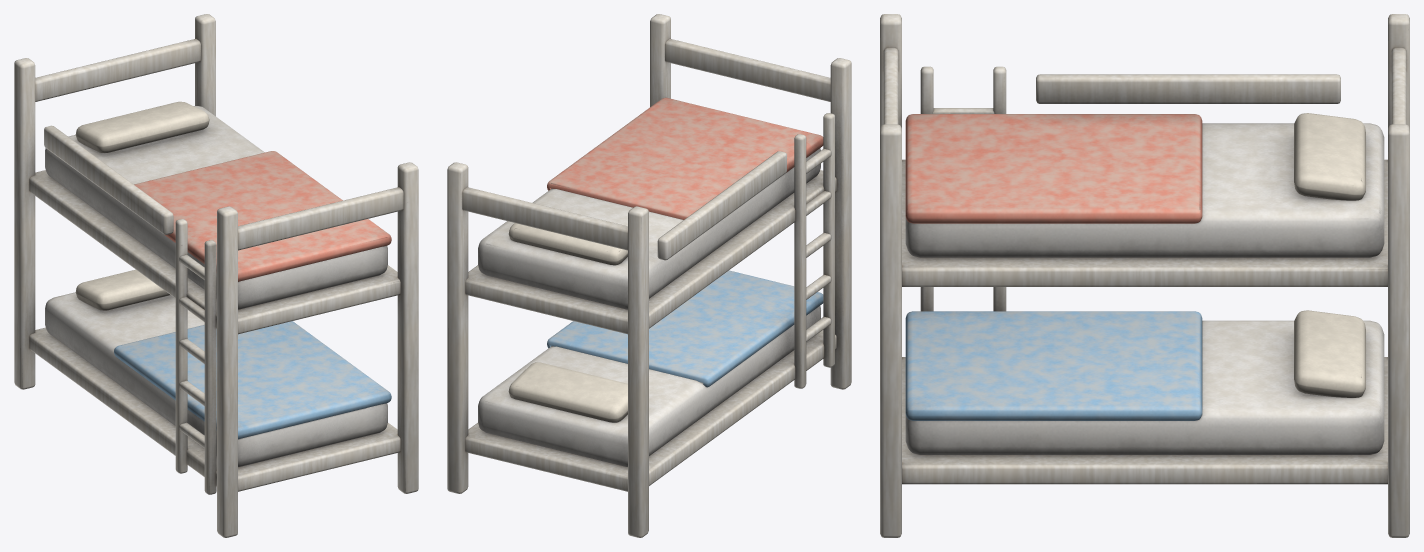
File: bunk_bed.fbx
The picture shows the model from 3 angles, left to right: view 1: azimuth 30°, elevation 25°; view 2: azimuth 150°, elevation 25°; view 3: azimuth 270°, elevation 25°; orthographic projection. The views are drawn at different scales.
Parts seen in each view (by area): view 1: Body; view 2: Body; view 3: Body.
Boxes of the visible parts, left/top/right/bottom form: Body: left=14, top=14, right=418, bottom=537; Body: left=447, top=14, right=851, bottom=537; Body: left=880, top=14, right=1409, bottom=537.
Bounding box in the file's own units: 3.9 × 6.2 × 7.3.
Materials: 1 (1 with a texture image).
